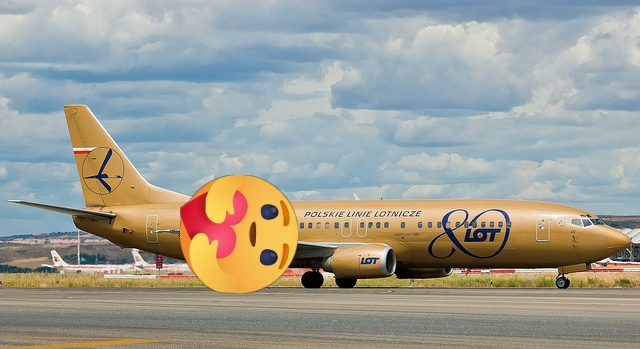care: (180, 175, 298, 293)
